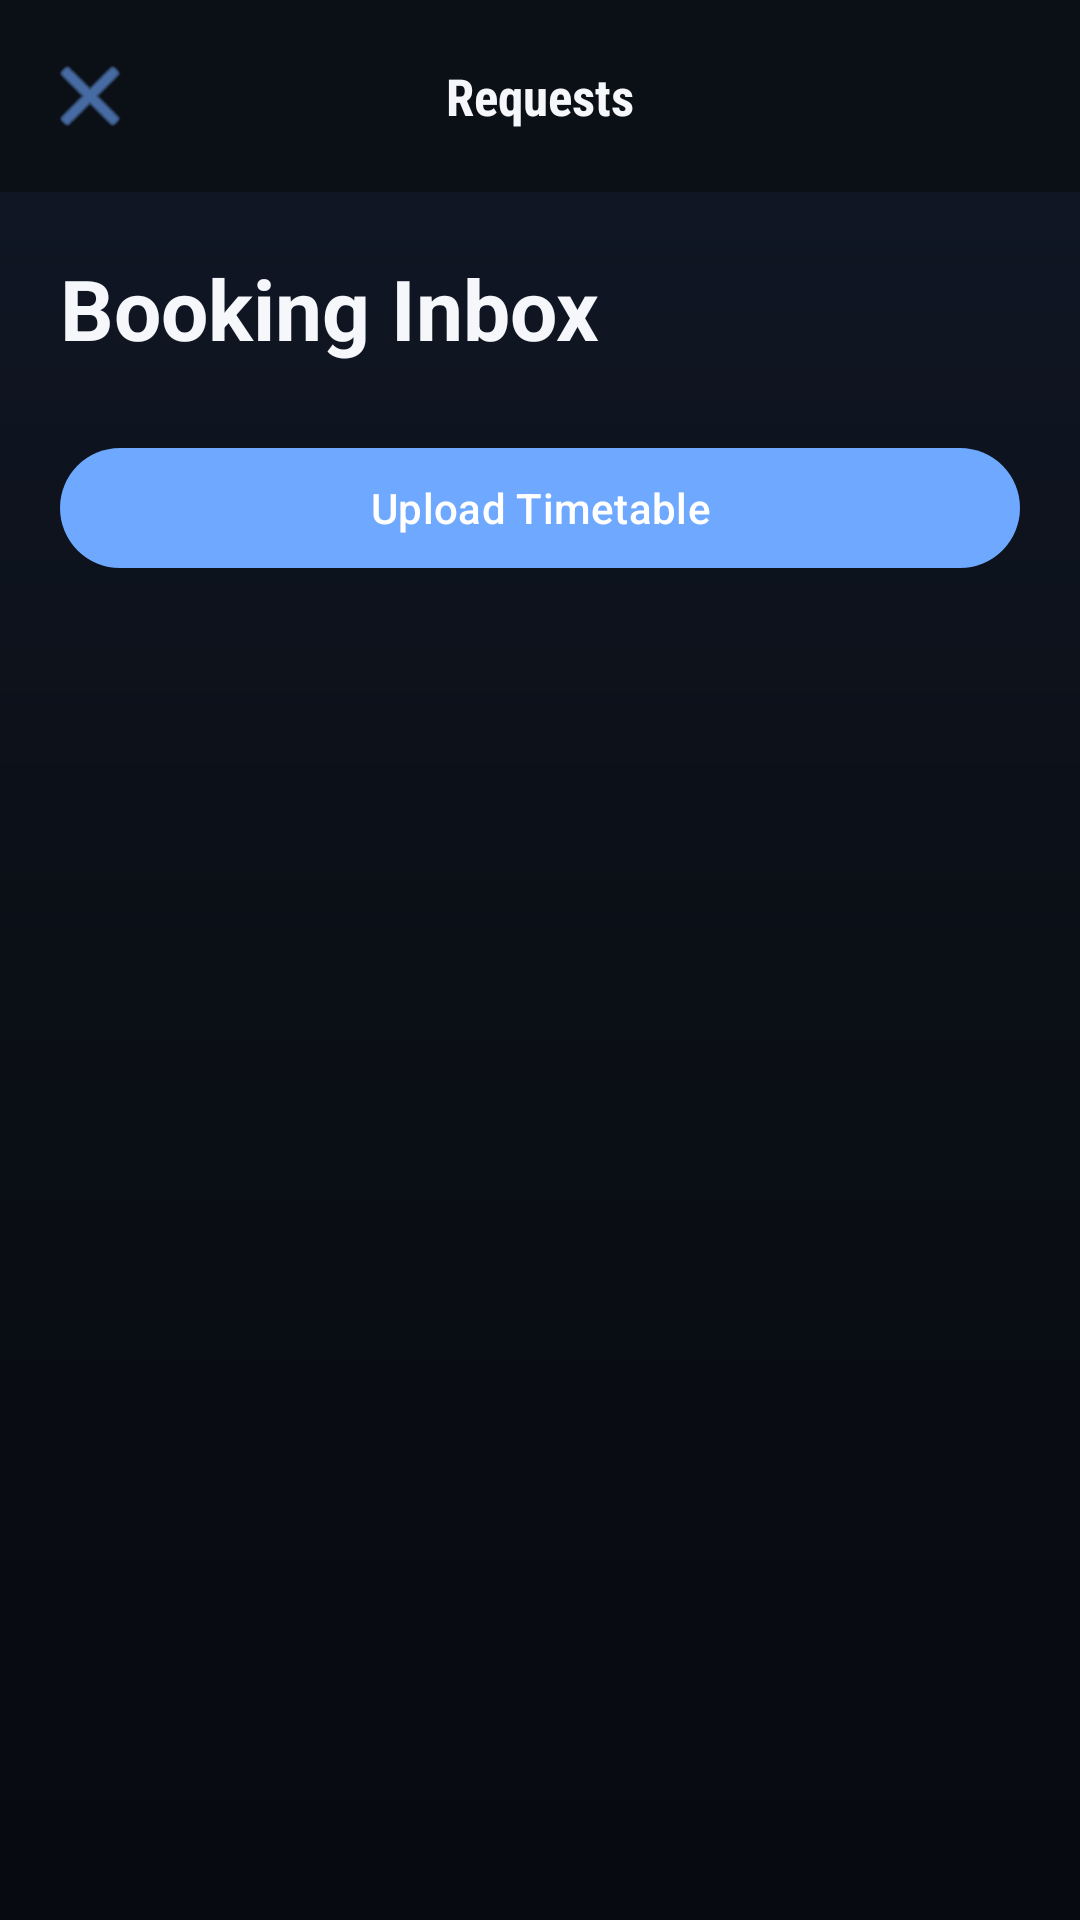

Screen size 1080 x 1920. Icon name, then its box in pixels as (x1, y1, x2, y2):
close clear cancel: (60, 66, 120, 126)
